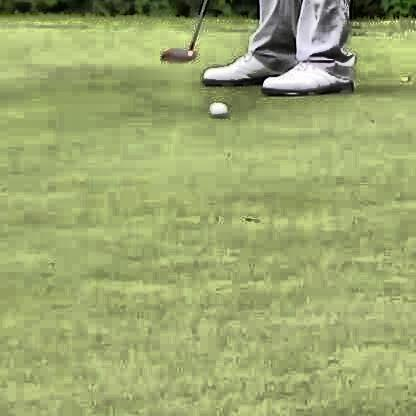golfball: (206, 98, 226, 116)
